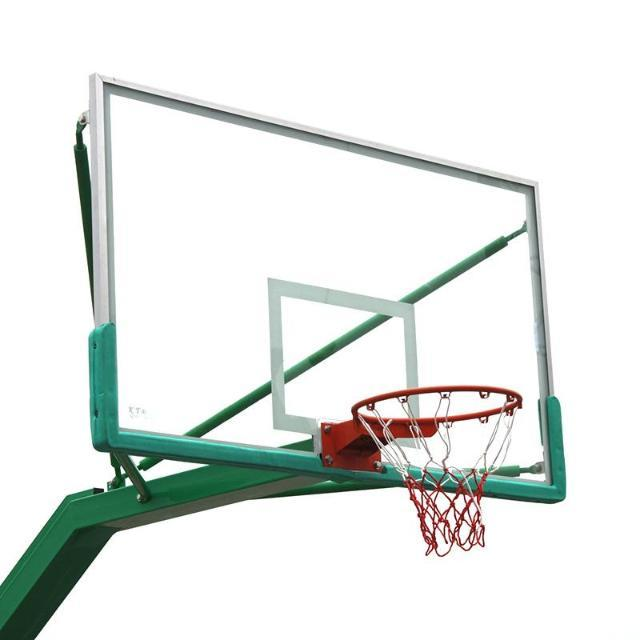rim: (352, 386, 524, 558)
